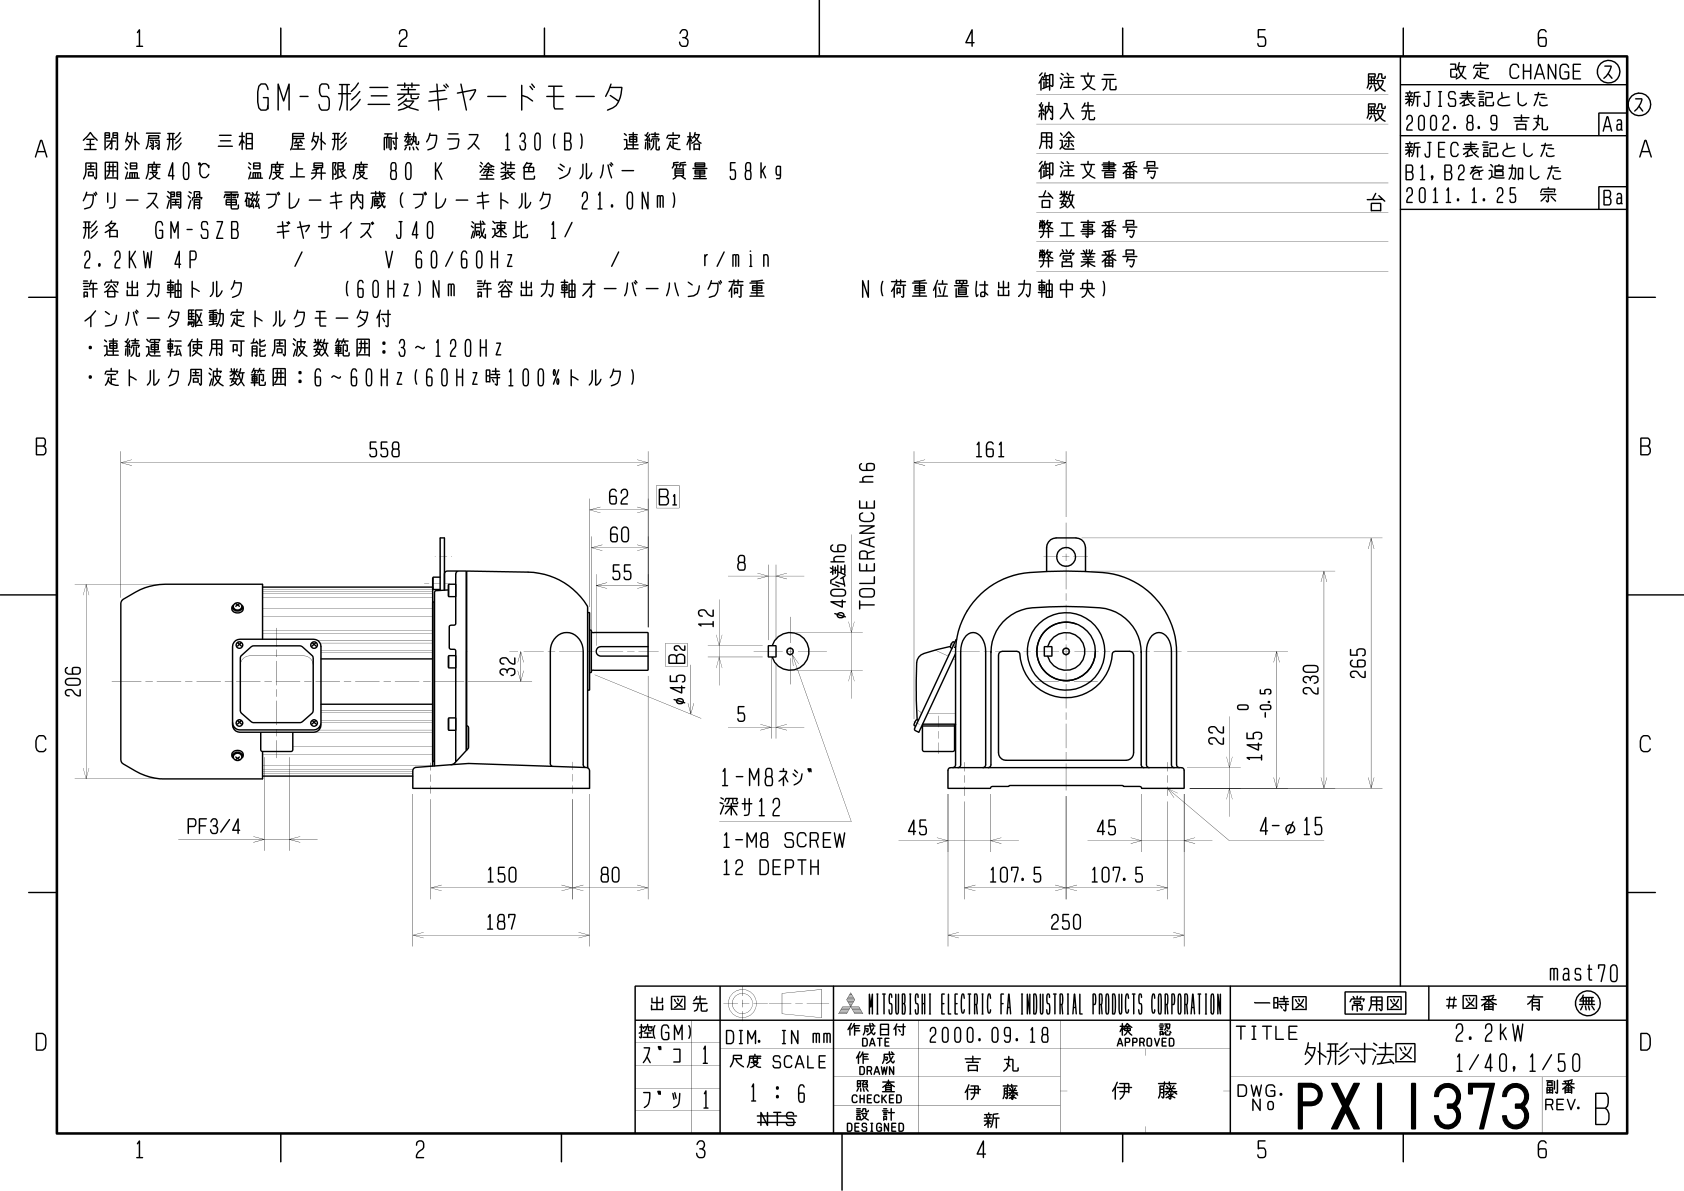GM_S_インバタ屋外＿三相_脚: (58, 414, 1392, 953)
